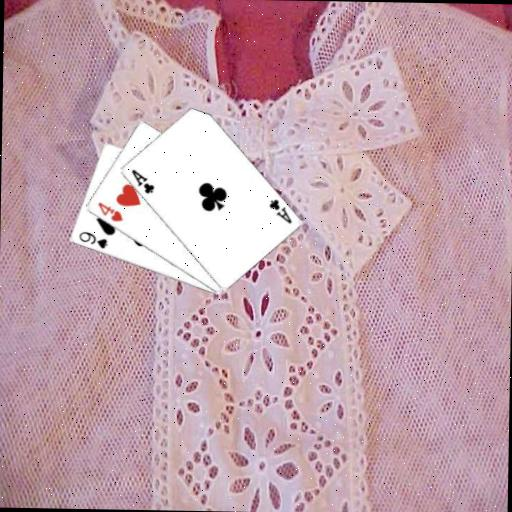4H: (94, 199, 124, 223)
9S: (76, 229, 110, 250)
AC: (128, 166, 156, 195), (266, 196, 294, 225)
